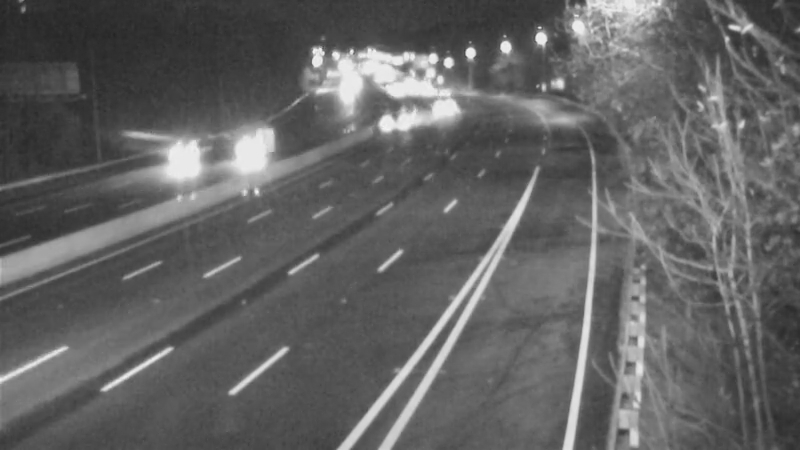vehicle: (144, 120, 224, 200), (213, 115, 293, 195), (419, 84, 469, 134), (374, 88, 424, 138)
